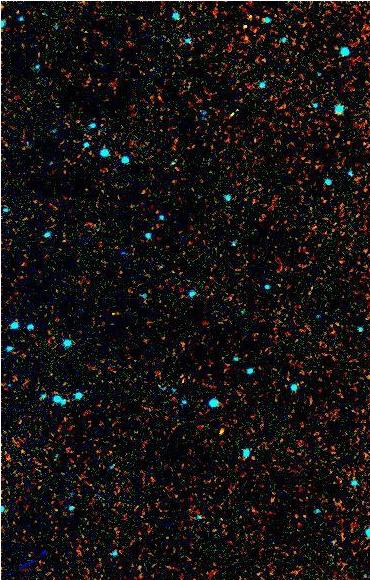star: (207, 424, 237, 454)
